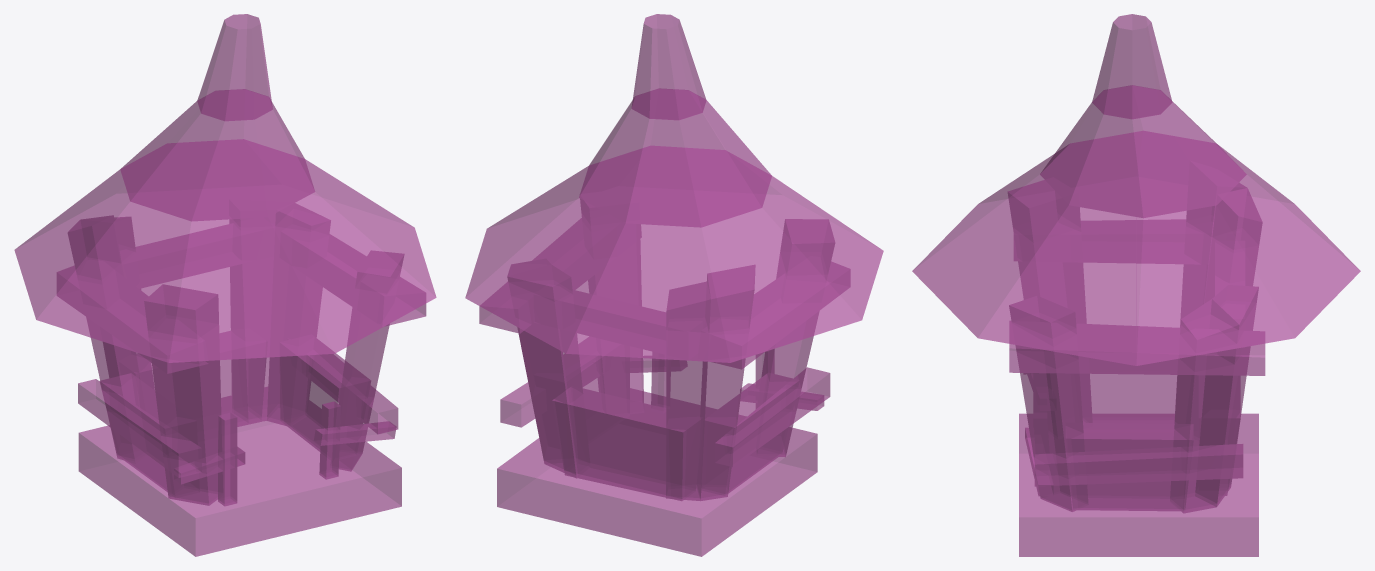
File: SM_Bld_Tower_Top_01_Collision.fbx
3 renders of one model, left to right at view 1: azimuth 30°, elevation 25°; view 2: azimuth 150°, elevation 25°; view 3: azimuth 270°, elevation 25°, orthographic. The views are drawn at different scales.
Parts seen in each view (by area): view 1: SM_Bld_Tower_Top_01_Collision; view 2: SM_Bld_Tower_Top_01_Collision; view 3: SM_Bld_Tower_Top_01_Collision.
Part boxes in pixels (box(x1,y1,x2,y2)): SM_Bld_Tower_Top_01_Collision: box(14, 14, 436, 556); SM_Bld_Tower_Top_01_Collision: box(465, 14, 883, 556); SM_Bld_Tower_Top_01_Collision: box(912, 14, 1360, 556).
Bounding box in the file's own units: 528 × 627 × 528.
